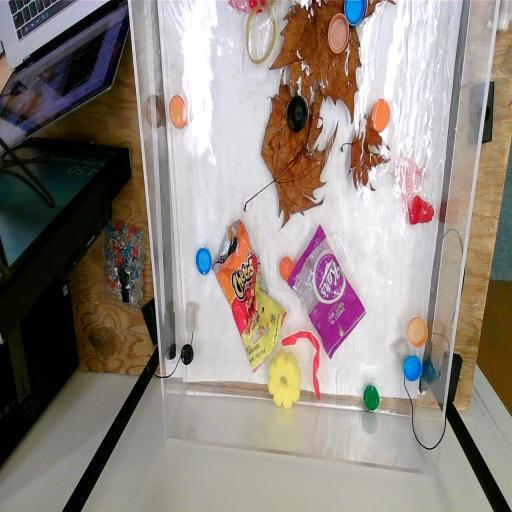Bottle Cap: (328, 13, 352, 57), (369, 94, 391, 136), (167, 93, 190, 133), (406, 314, 431, 350), (286, 94, 308, 132), (342, 0, 368, 28), (402, 354, 423, 386), (194, 244, 212, 281), (278, 252, 296, 286), (362, 382, 380, 414), (179, 341, 195, 367)
Cone Cap: (408, 194, 436, 230)
Leaf: (240, 75, 332, 225), (275, 0, 373, 122), (340, 114, 390, 192)
Netting: (391, 146, 432, 212), (224, 0, 274, 17)
Plastic Bag: (211, 218, 287, 378), (286, 222, 367, 360)
Plastic Strand: (280, 330, 323, 404), (244, 0, 276, 68)
Sponge: (267, 348, 303, 412)
